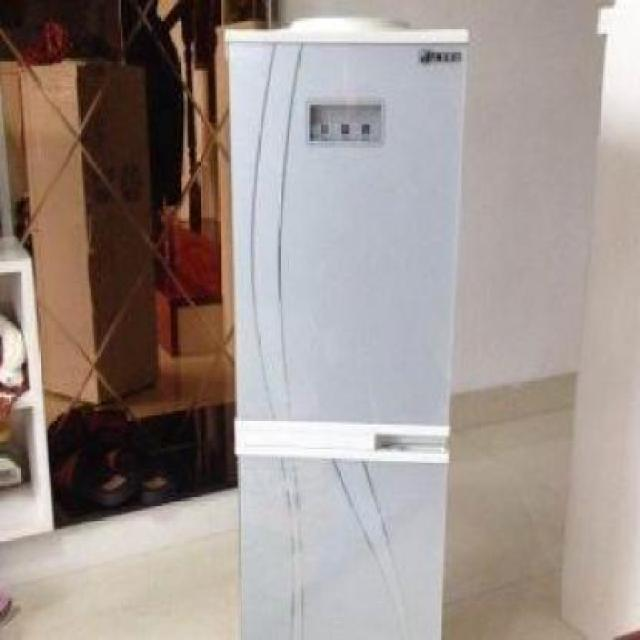cooler: (221, 12, 474, 640)
